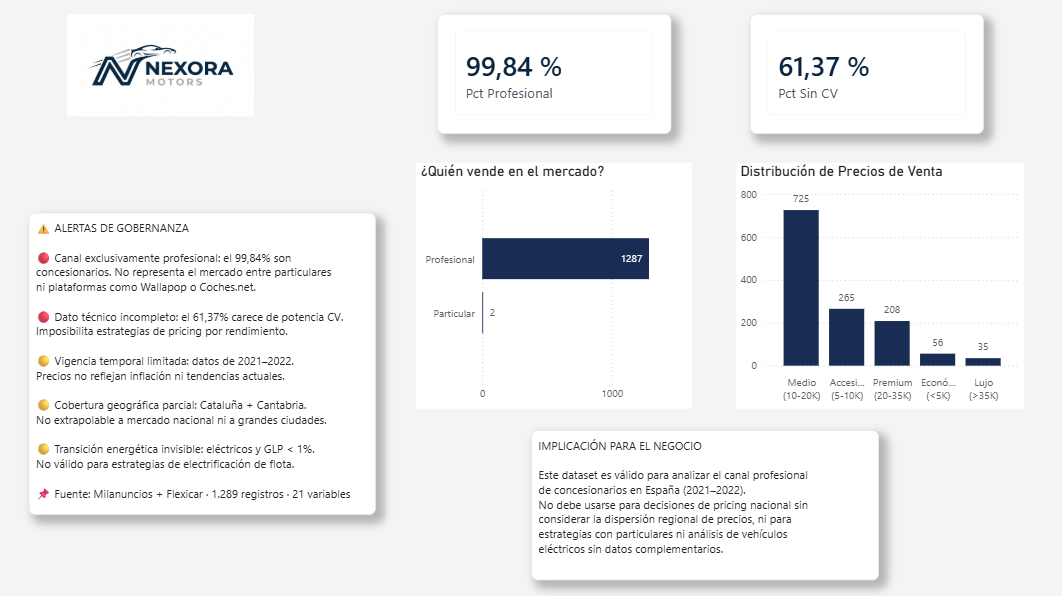

What the dashboard file says about the page in this screenshot:
{"tool":"powerbi","page":{"name":"Gobernanza y Sesgos","canvas":[1280,720],"ordinal":2},"visuals":[{"type":"cardVisual","title":" Vendedores Profesionales","fields":{"Data":["coches_clean.Pct Profesional"]},"box":[528.6,18.2,279.2,142.9],"z":0},{"type":"cardVisual","title":"Vehículos Sin Potencia","fields":{"Data":["coches_clean.Pct Sin CV"]},"box":[901.3,18.2,279.2,142.9],"z":1000},{"type":"clusteredBarChart","title":"¿Quién vende en el mercado? ","fields":{"Category":["coches_clean.particular"],"Y":["coches_clean.Total Vehiculos"]},"box":[502.6,194.8,329.9,293.5],"z":2000},{"type":"clusteredColumnChart","title":"Distribución de Precios de Venta","fields":{"Y":["CountNonNull(coches_clean.precio)"],"Category":["coches_clean.segmento_precio"]},"box":[884.4,194.8,344.2,293.5],"z":3000},{"type":"textbox","box":[40.3,255.8,414.3,361],"z":4000},{"type":"textbox","box":[640.3,515.6,415.6,179.2],"z":5000},{"type":"image","box":[40.3,18.2,314.3,122.1],"z":6000}]}

Visuals, with their boxes in screenshot pixels (x1, y1, x2, y2), scaled from the page's 1280x720 canvas onto the 1062x596 screenshot:
" Vendedores Profesionales" cardVisual: locate(439, 15, 670, 133)
"Vehículos Sin Potencia" cardVisual: locate(748, 15, 979, 133)
"¿Quién vende en el mercado? " clusteredBarChart: locate(417, 161, 691, 404)
"Distribución de Precios de Venta" clusteredColumnChart: locate(734, 161, 1019, 404)
textbox: locate(33, 212, 377, 511)
textbox: locate(531, 427, 876, 575)
image: locate(33, 15, 294, 116)
